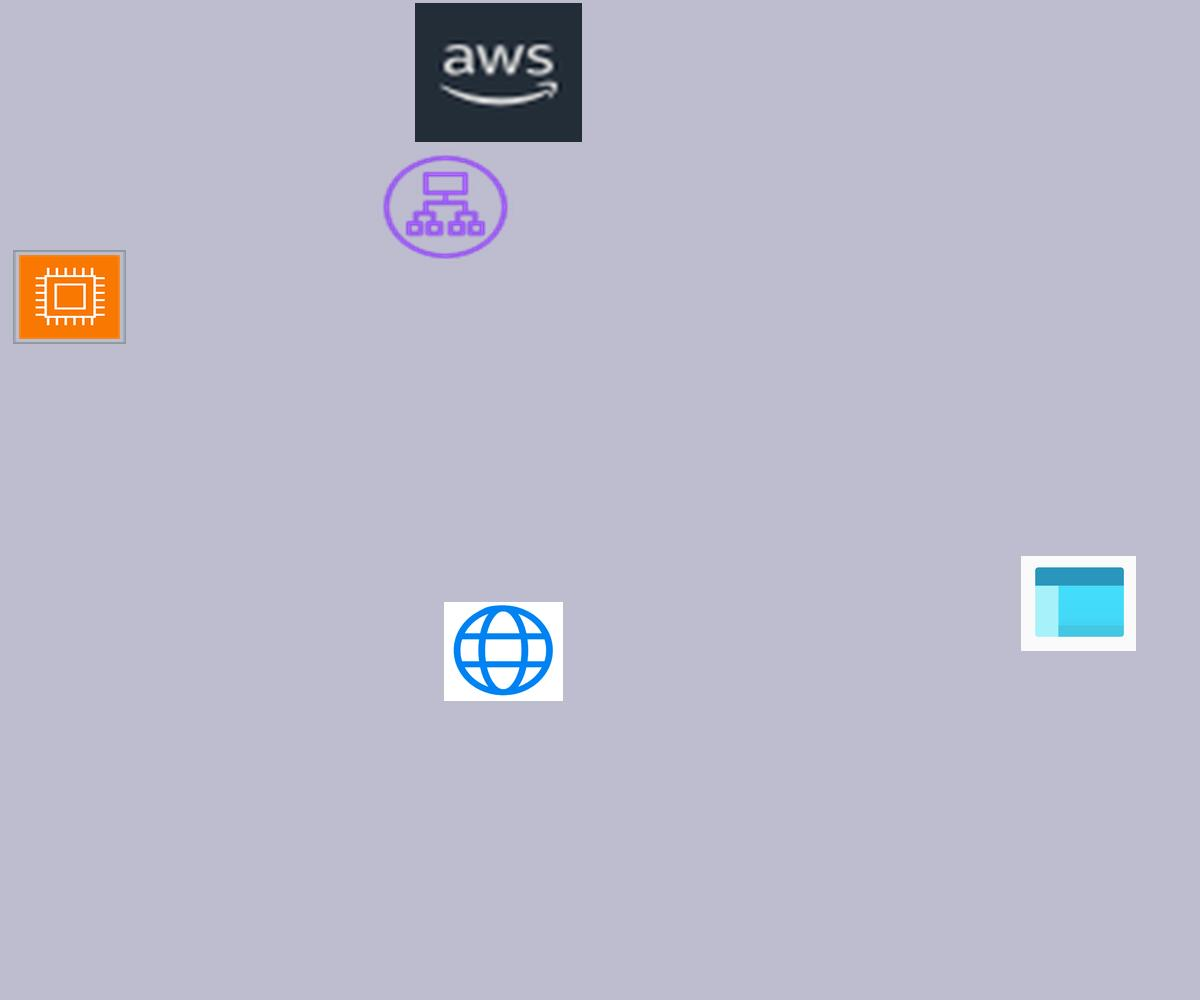AWS-Category_Compute: (13, 250, 126, 344)
AWS-Cloud-logo: (415, 3, 582, 142)
AWS-Res_Elastic-Load-Balancing_Application-Load-Balancer: (378, 151, 513, 263)
Azure_http: (444, 602, 563, 701)
Azure_management-portal: (1021, 556, 1136, 651)
